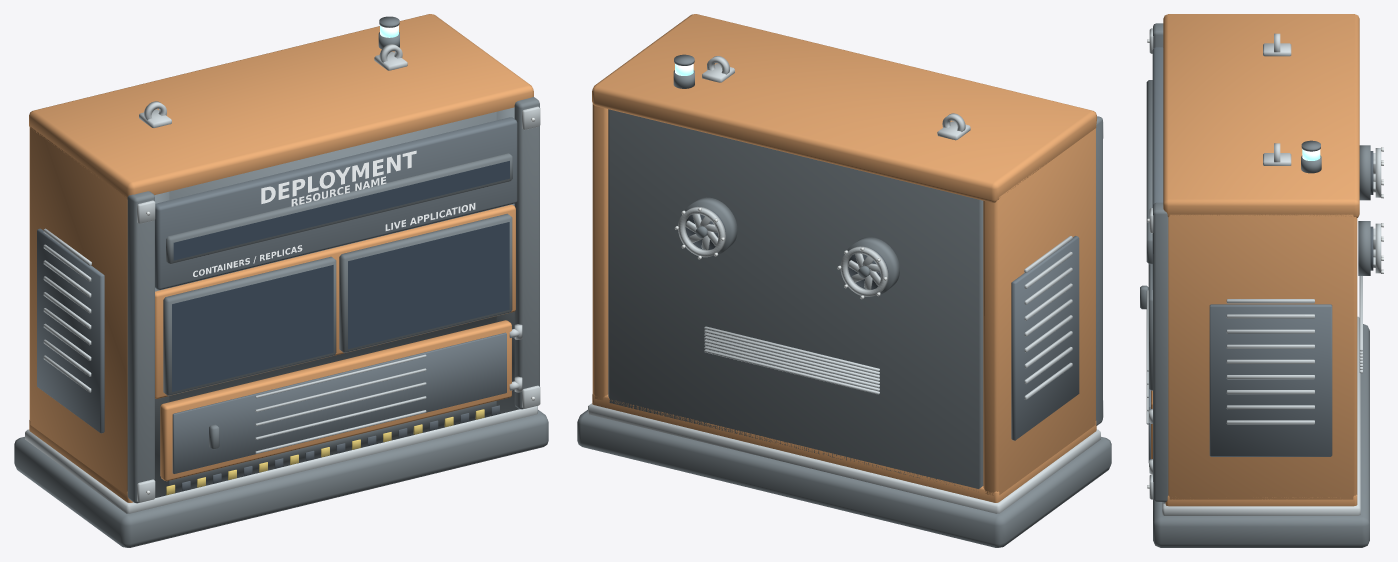
File: deployment_line_ultra.glb
3 views of the same model, side by side, from view 1: azimuth 30°, elevation 25°; view 2: azimuth 150°, elevation 25°; view 3: azimuth 270°, elevation 25° (orthographic). The views are drawn at different scales.
Visible parts, largest first — view 1: Roof_orange, FrontHeader_graphite, Skid_frame, SideWall_orange, DoorMoving_Inset_graphite, CornerPost_frame, ContainerListSurface_glass, LiveViewSurface_glass, SideServicePanel_graphite, DoorMoving_Panel_orange, ResourceNameSurface_glass, SealHeader_frame (+15 smaller); view 2: BackWall_frame, Roof_orange, SideWall_orange, Skid_frame, SideServicePanel_graphite, SkidDeck_steel, KickPlate_orange, RearVent_steel, RearFan_steel, SideLouver_steel, CornerPost_frame, RearFan_frame (+2 smaller); view 3: Roof_orange, SideWall_orange, SideServicePanel_graphite, Skid_frame, CornerPost_frame, SideLouver_steel, SkidDeck_steel, FrontHeader_graphite, KickPlate_orange, RearFan_frame, ResourceNameSurfaceFrame_frame, RearFan_steel (+6 smaller).
Boxes of the visible parts, x1,y1,x2,y2 form: Roof_orange: (29,14,533,199); FrontHeader_graphite: (155,117,517,289); Skid_frame: (14,410,548,547); SideWall_orange: (29,127,127,494); DoorMoving_Inset_graphite: (172,332,506,473); CornerPost_frame: (127,97,539,503); ContainerListSurface_glass: (172,265,333,391); LiveViewSurface_glass: (348,222,509,349); SideServicePanel_graphite: (37,228,104,433); DoorMoving_Panel_orange: (160,320,511,481); ResourceNameSurface_glass: (173,161,509,260); SealHeader_frame: (169,112,496,401); BackWall_frame: (608,109,983,488); Roof_orange: (592,14,1096,202); SideWall_orange: (592,104,1095,495); Skid_frame: (577,410,1111,547); SideServicePanel_graphite: (1011,236,1079,440); SkidDeck_steel: (588,403,1100,513); KickPlate_orange: (592,393,1096,502); RearVent_steel: (704,326,879,394); RearFan_steel: (678,206,888,296); SideLouver_steel: (1024,236,1072,399); CornerPost_frame: (1096,116,1102,425); RearFan_frame: (685,197,899,295); Roof_orange: (1163,14,1359,217); SideWall_orange: (1168,214,1357,499); SideServicePanel_graphite: (1209,304,1332,456); Skid_frame: (1153,324,1369,547); CornerPost_frame: (1153,23,1168,501); SideLouver_steel: (1226,299,1314,424); SkidDeck_steel: (1162,316,1360,515); FrontHeader_graphite: (1152,47,1163,289); KickPlate_orange: (1165,494,1357,506); RearFan_frame: (1358,145,1370,275); ResourceNameSurfaceFrame_frame: (1146,80,1152,264); RearFan_steel: (1373,148,1381,273).
Bounding box in the file's own units: 3 × 2.59 × 1.55.
